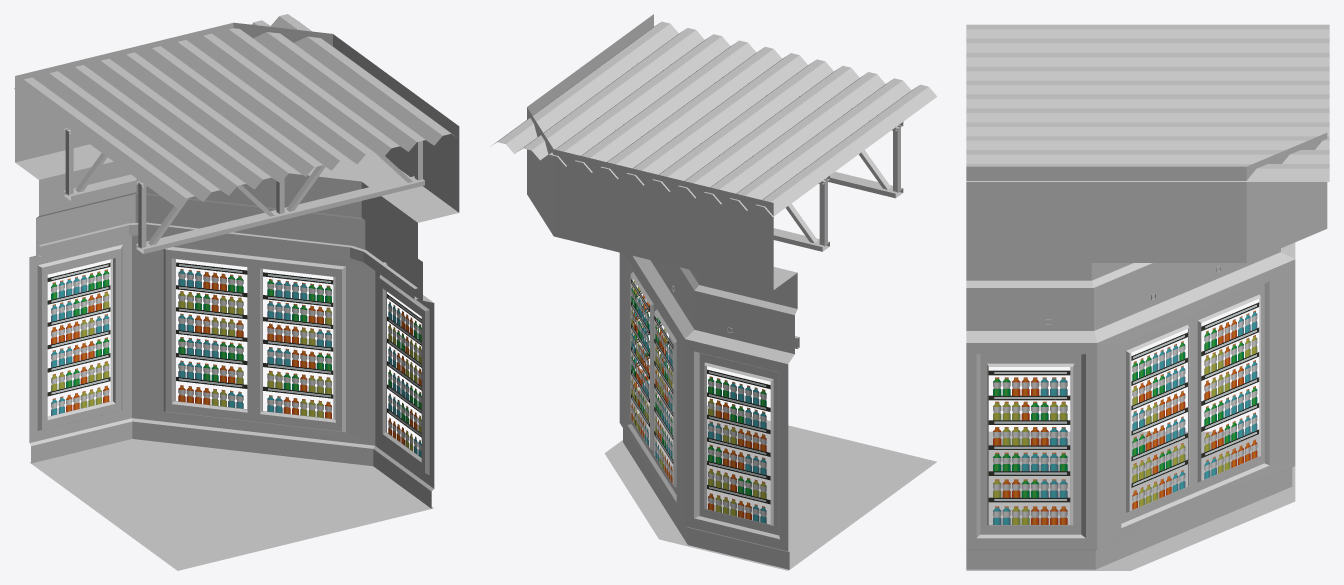
File: Store_Build_Corner_TR_0.dae
3 views of the same model, side by side, from view 1: azimuth 30°, elevation 25°; view 2: azimuth 150°, elevation 25°; view 3: azimuth 270°, elevation 25° (orthographic). The views are drawn at different scales.
Parts seen in each view (by area): view 1: Store_Corner_TR; view 2: Store_Corner_TR; view 3: Store_Corner_TR.
Boxes of the visible parts, box(x1,y1,x2,y2) form: Store_Corner_TR: box(14, 14, 459, 570); Store_Corner_TR: box(491, 14, 937, 570); Store_Corner_TR: box(966, 24, 1329, 570).
Size of the model in its own units: 2.2 by 2.21 by 2.8.
